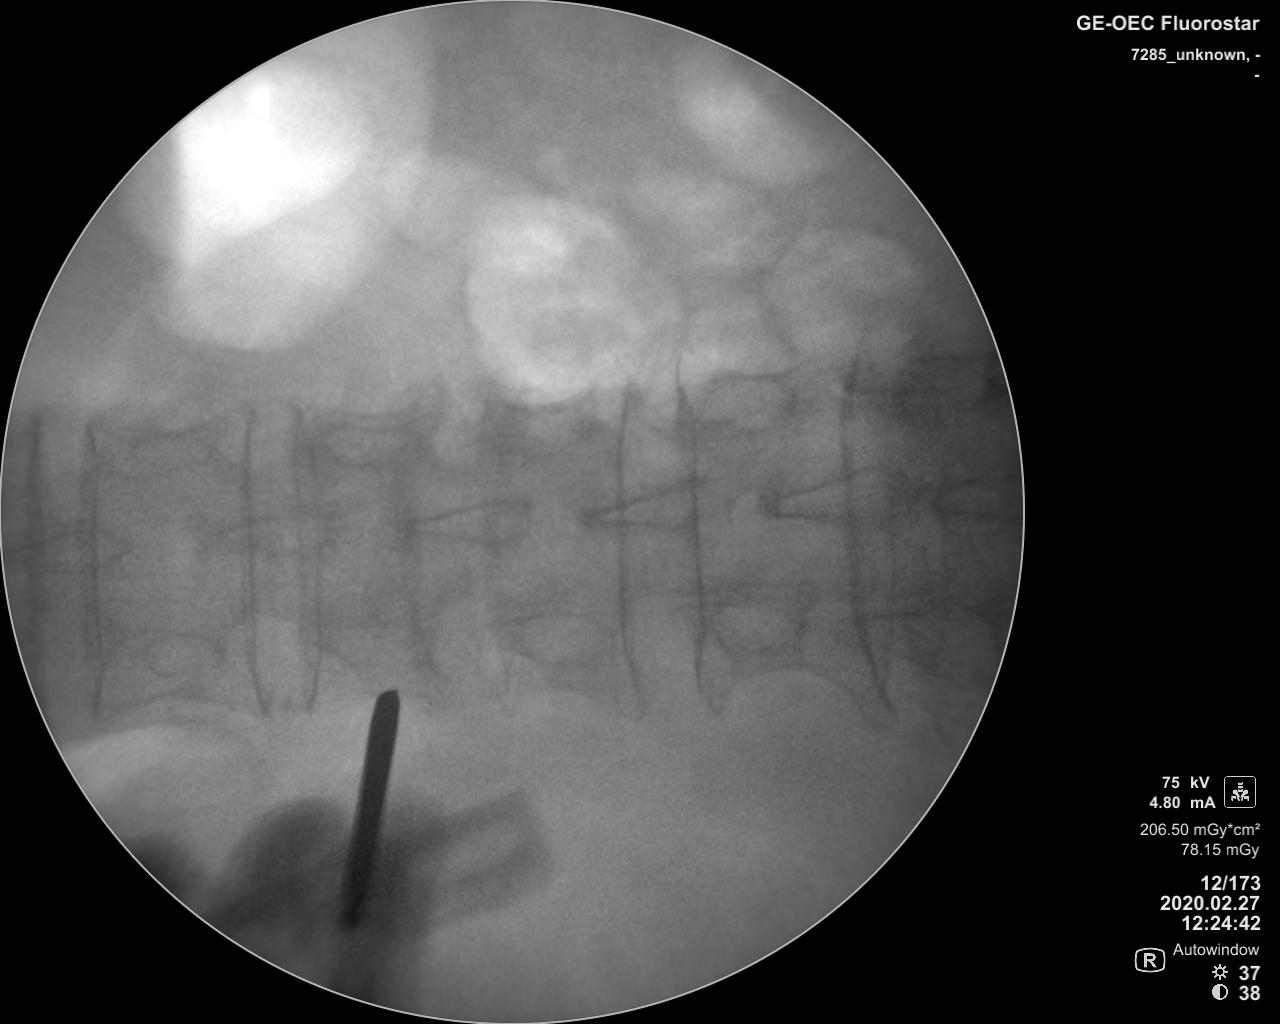eyes: (700, 585, 815, 658), (679, 366, 800, 435), (307, 616, 432, 680), (501, 607, 619, 670), (497, 385, 598, 458), (907, 607, 997, 686), (316, 400, 416, 470), (136, 628, 231, 686)
line: (832, 338, 897, 695), (670, 368, 712, 708), (608, 370, 650, 708), (288, 393, 330, 720), (233, 403, 272, 715), (80, 418, 113, 724), (18, 408, 48, 688)
nose: (773, 465, 913, 529), (578, 476, 726, 535), (385, 498, 543, 548), (211, 508, 339, 560), (3, 529, 143, 576), (931, 467, 1022, 526)
